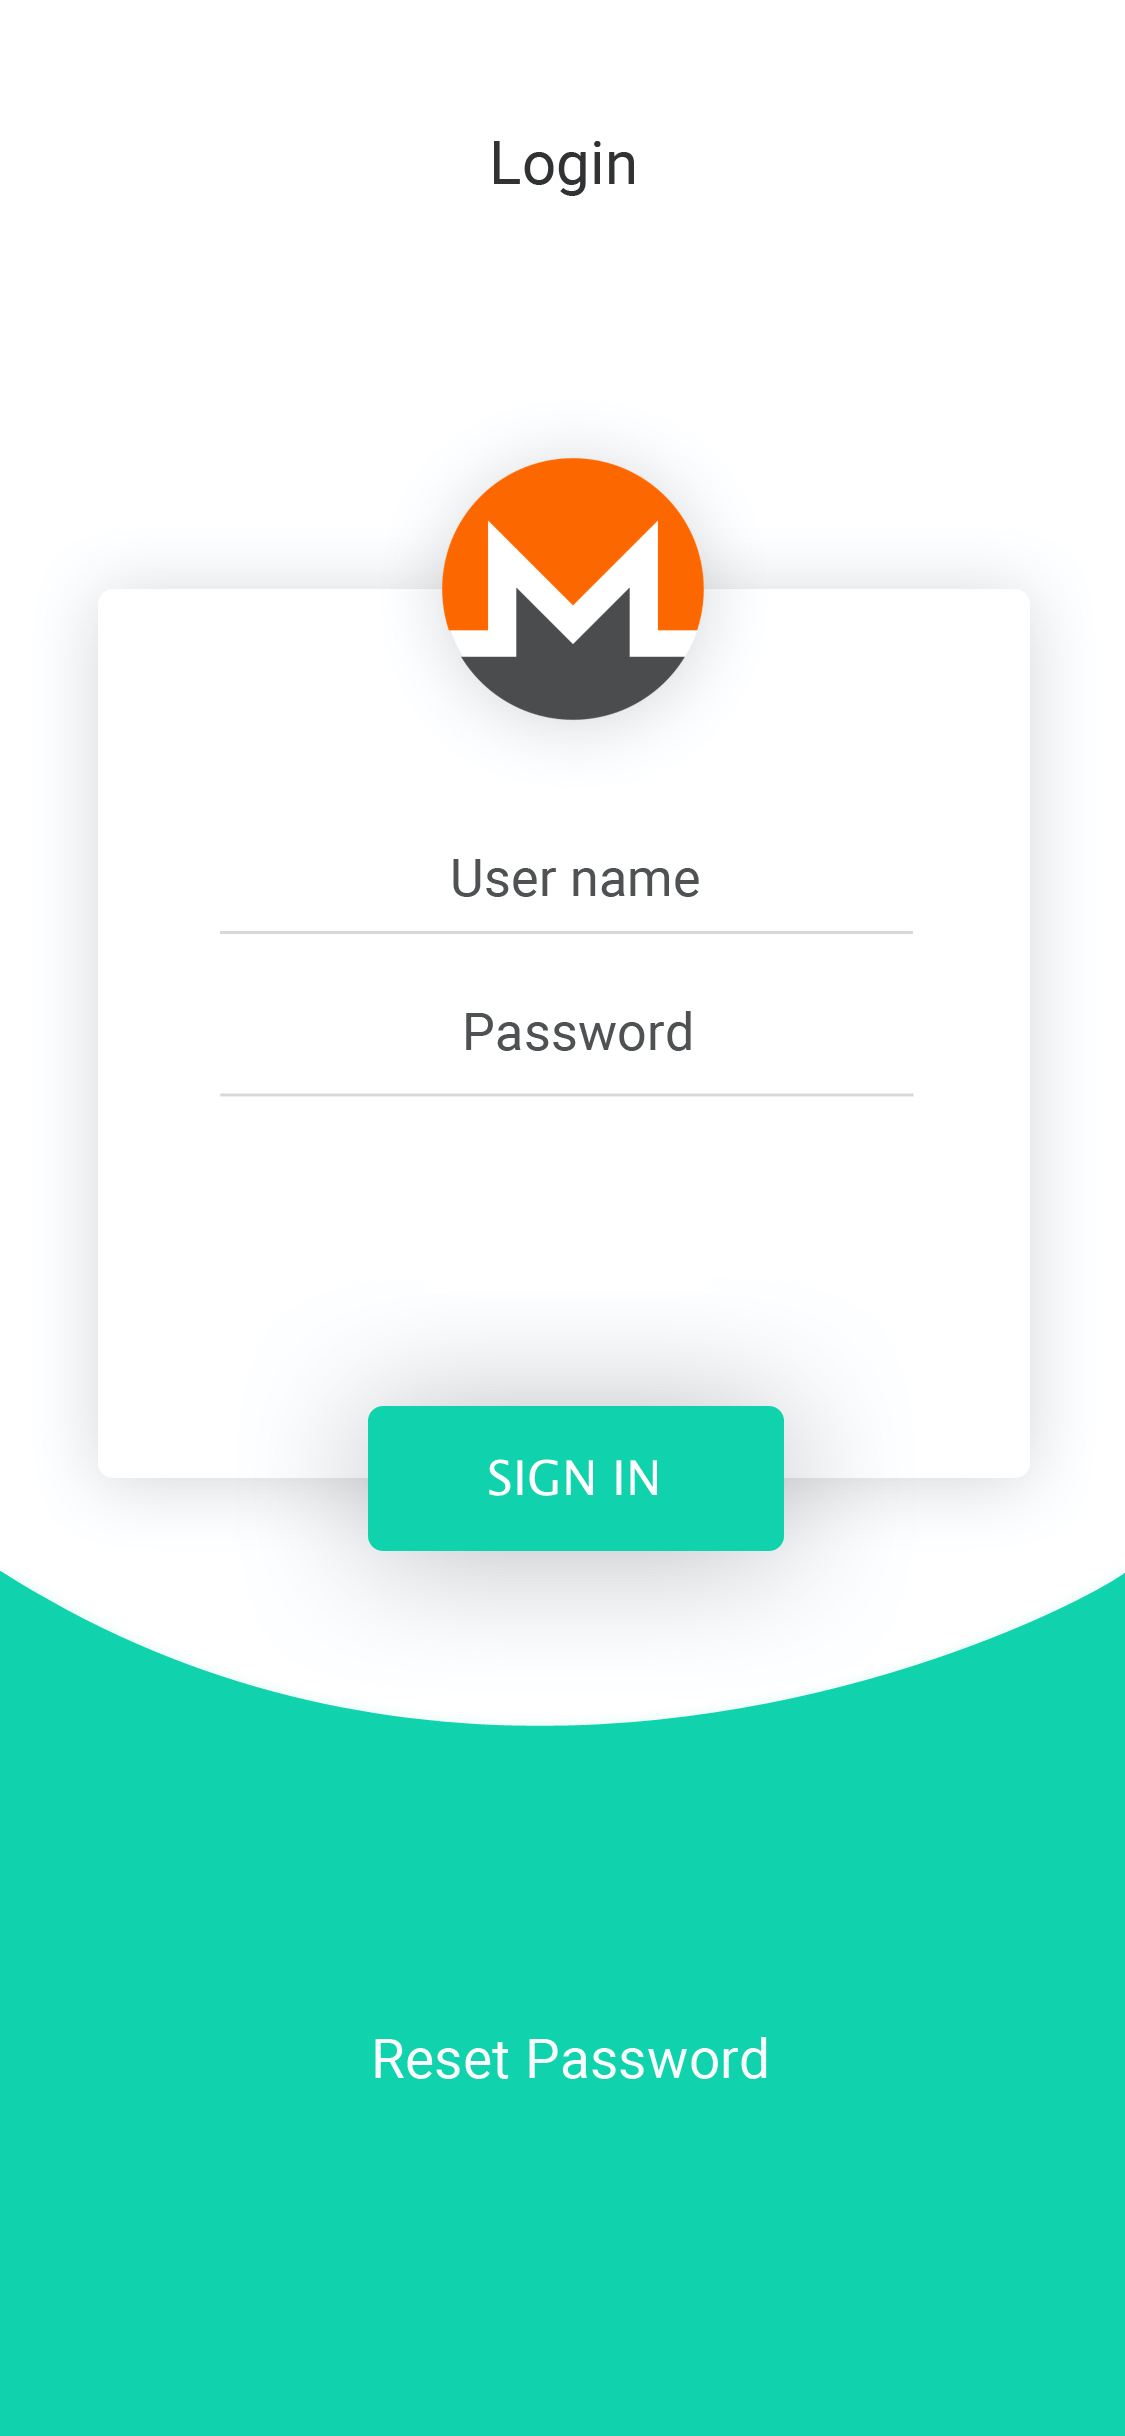EditText: (221, 1010, 914, 1098), (221, 859, 914, 935)
Image: (441, 457, 705, 721)
Text: (374, 2037, 768, 2080), (452, 859, 701, 900), (465, 1011, 693, 1052), (494, 140, 636, 197)
TextButton: (368, 1406, 785, 1552)
